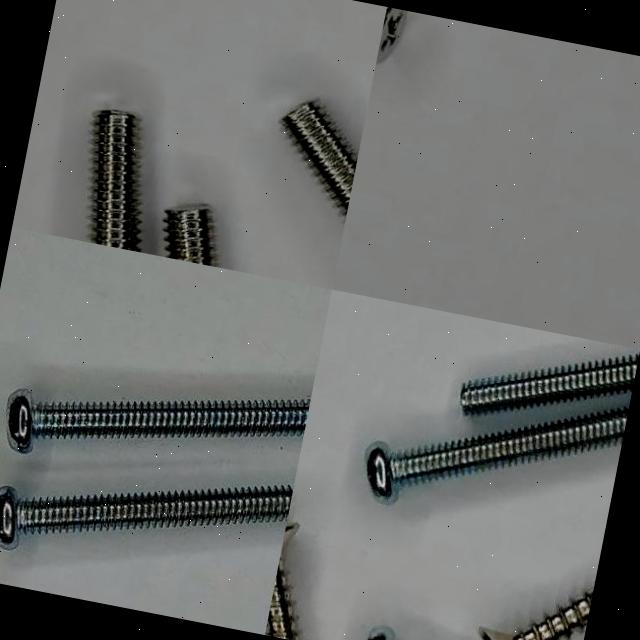Screw: (367, 406, 629, 504), (8, 390, 311, 452), (0, 487, 294, 550), (461, 355, 639, 414), (283, 104, 357, 219), (91, 112, 141, 252), (91, 111, 140, 252), (481, 590, 594, 640), (267, 525, 298, 640), (165, 208, 213, 267)
